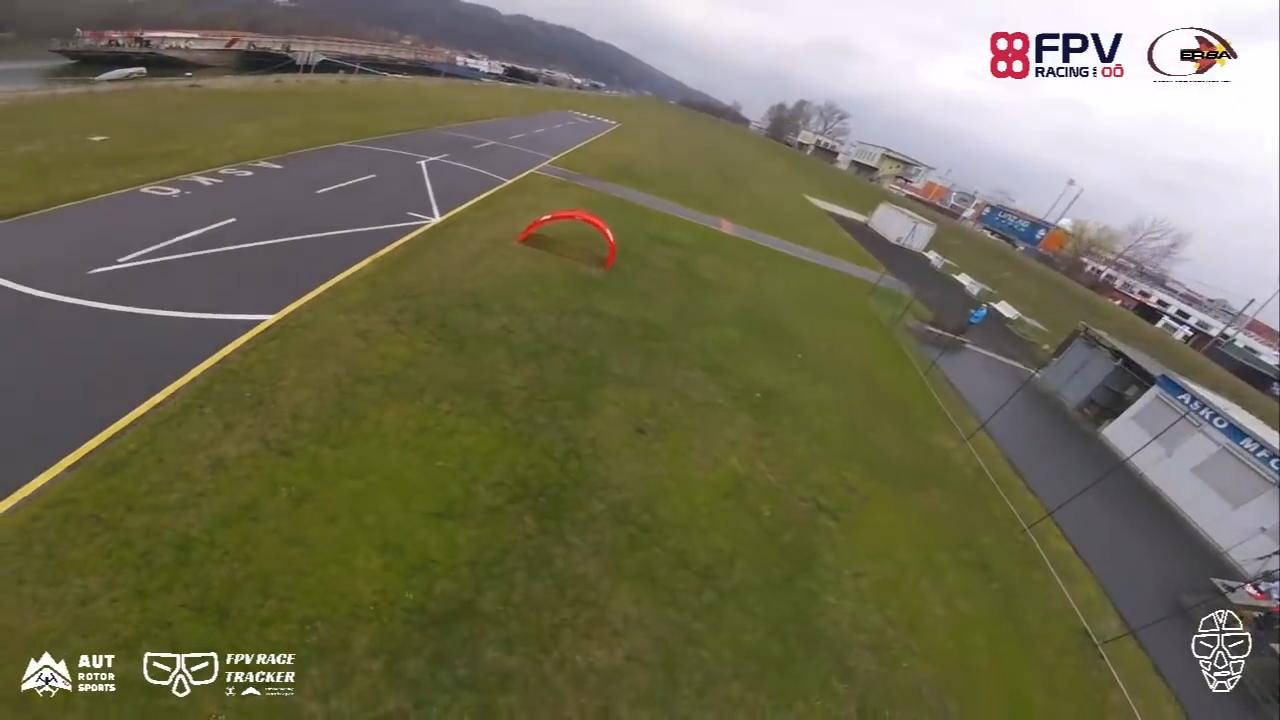gate: (514, 208, 617, 279)
